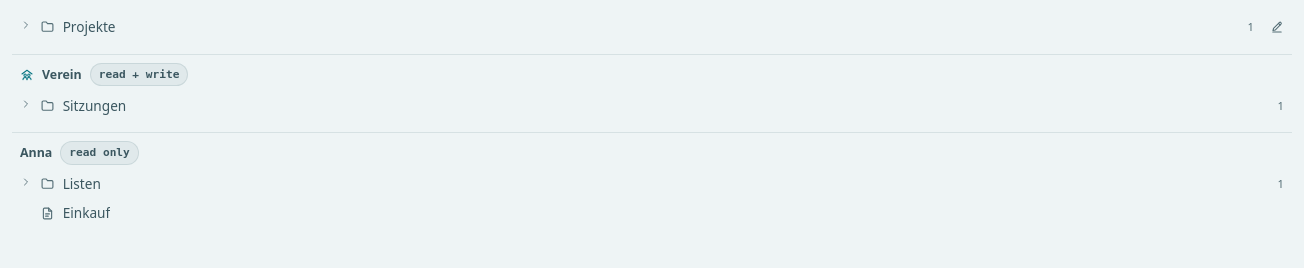
Test: the menu itself › closes on Escape and hands the focus back to the row
Right-click the list item "Projekte 1" at {"x": 89, "y": 26}, box [12,12,1262,42]
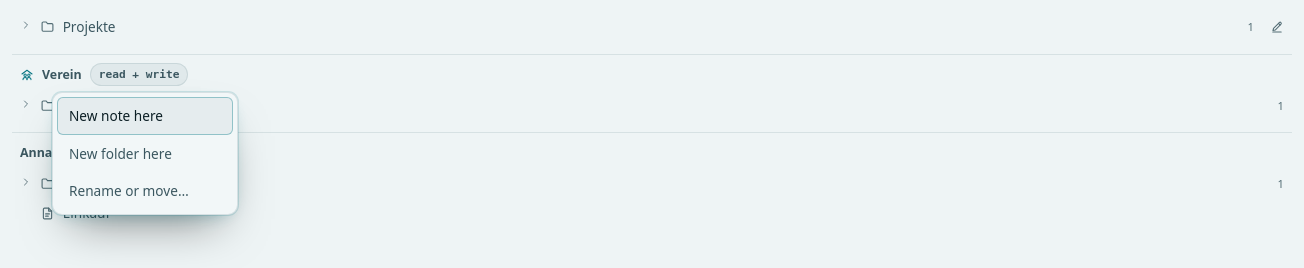
Press Escape
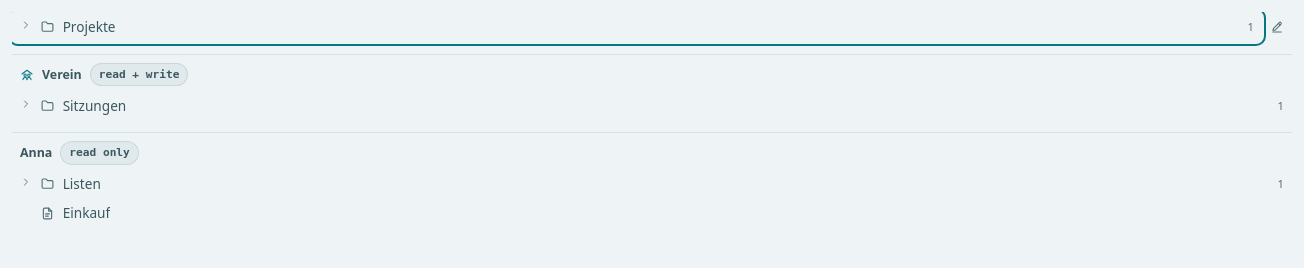
Check: the menu is gone
